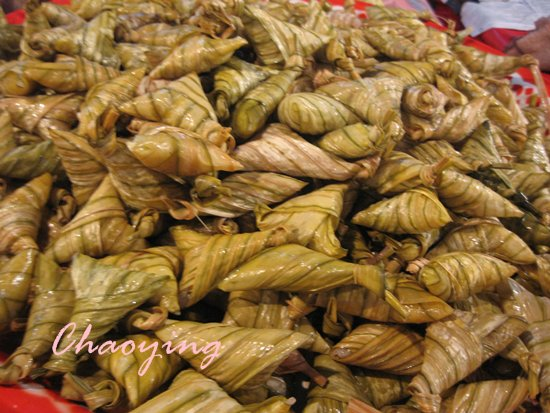kanomtom: (129, 301, 302, 401), (204, 236, 395, 311), (116, 114, 244, 190), (337, 176, 473, 240)
